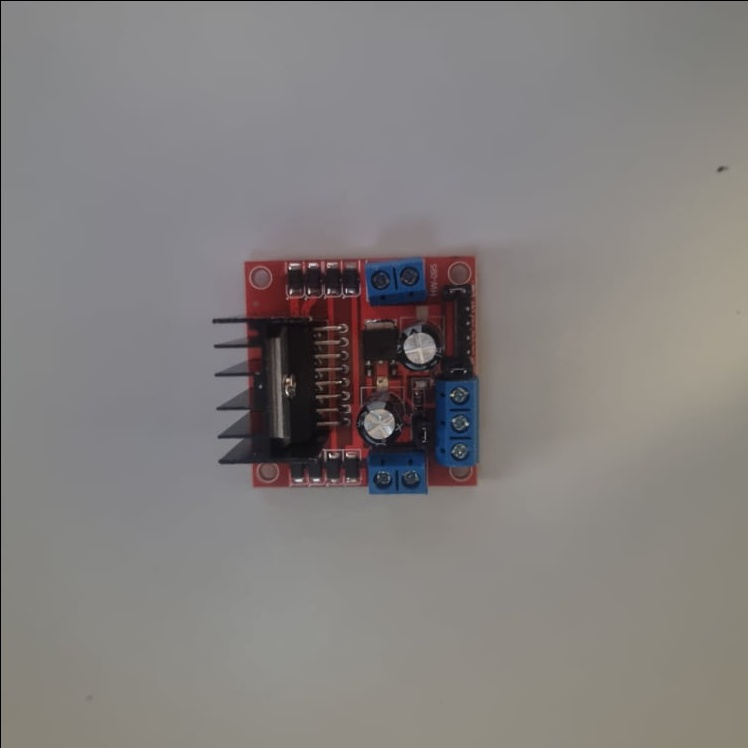MOTOR: (210, 257, 483, 494)
